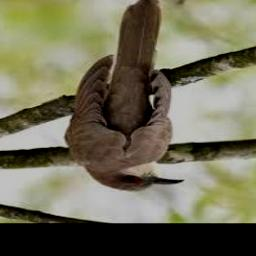Cuckoo: (66, 0, 184, 192)
